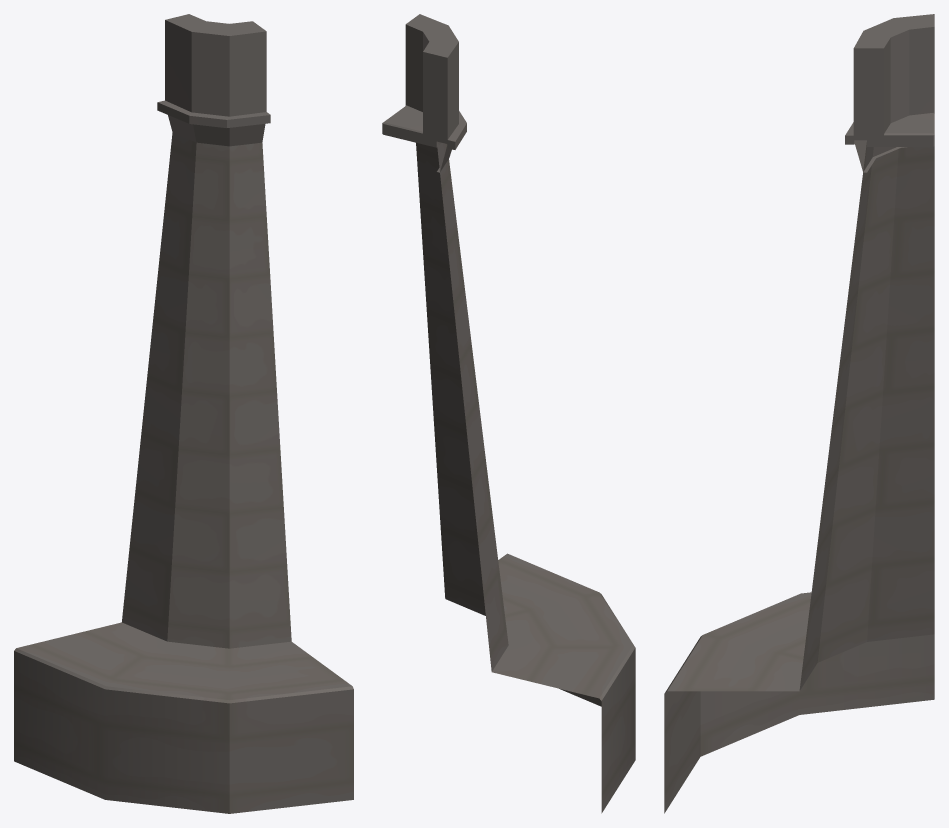
The model's file is NS_River_Wall_Corner.fbx.
3 views of the same model, side by side, from view 1: azimuth 30°, elevation 25°; view 2: azimuth 150°, elevation 25°; view 3: azimuth 270°, elevation 25° (orthographic). The views are drawn at different scales.
Visible parts, largest first — view 1: NS_River_Wall_Corner; view 2: NS_River_Wall_Corner; view 3: NS_River_Wall_Corner.
Part boxes in pixels (x1=…): NS_River_Wall_Corner: x1=14, y1=14, x2=353, y2=813; NS_River_Wall_Corner: x1=382, y1=14, x2=635, y2=813; NS_River_Wall_Corner: x1=664, y1=14, x2=934, y2=813.
Bounding box in the file's own units: 400 × 1250 × 400.
